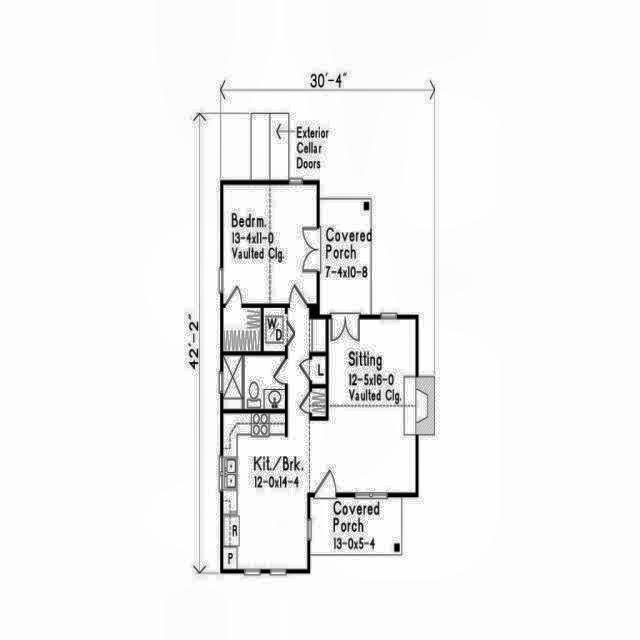room: (223, 307, 415, 568), (224, 186, 317, 302), (223, 355, 284, 408)
